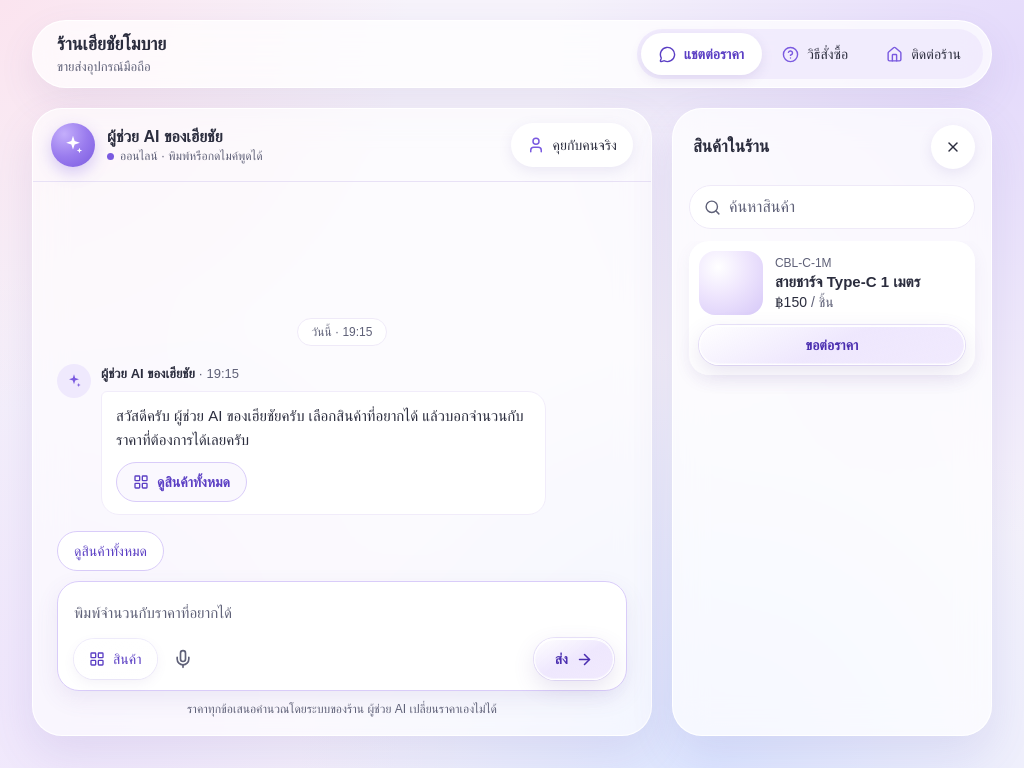
Test: ChatScreen — มือถือ › คุยกับคนจริง → การ์ดส่งเรื่อง และช่องพิมพ์ถึงเถ้าแก่
The image size is (1024, 768).
What coordinates should you click on to do the following:
click the button "คุยกับคนจริง"
I would click on:
 (572, 145)
Its box is [511,123,633,167].
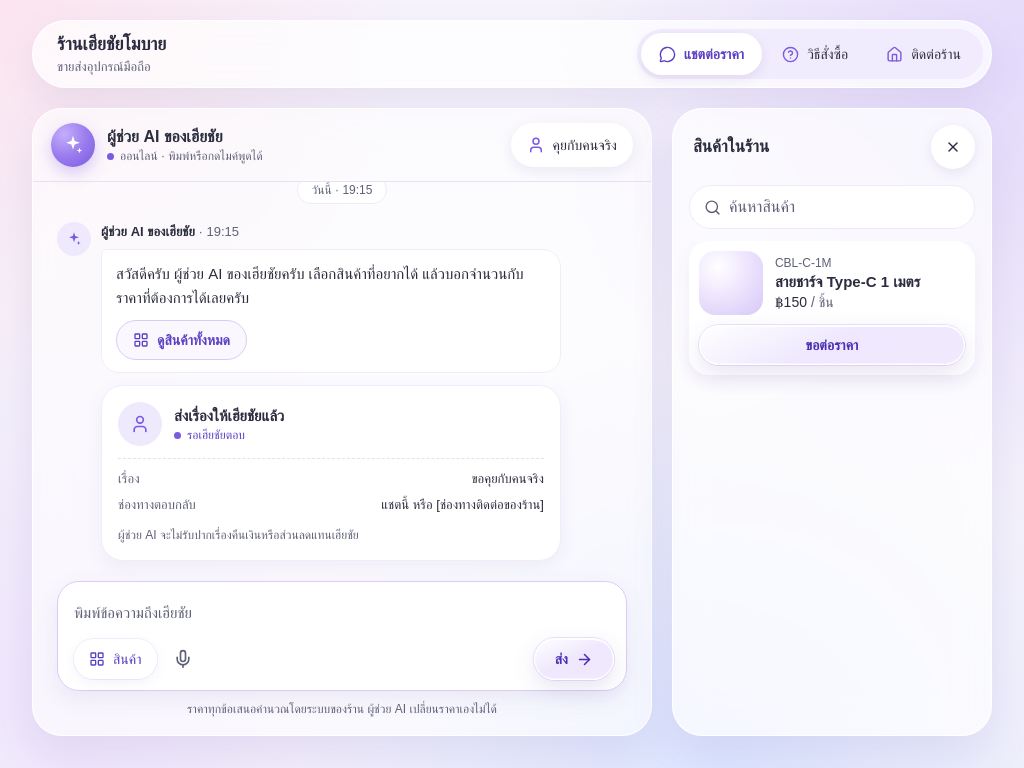
Expected: the text "ส่งเรื่องให้เฮียชัยแล้ว" is shown, [174,405,284,427]
